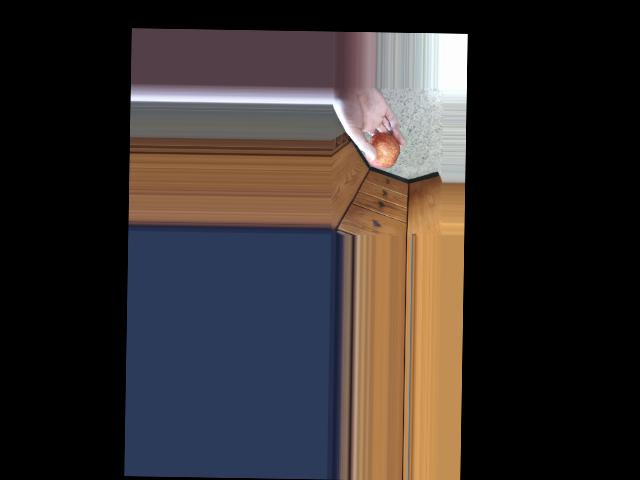apple: (360, 125, 402, 173)
